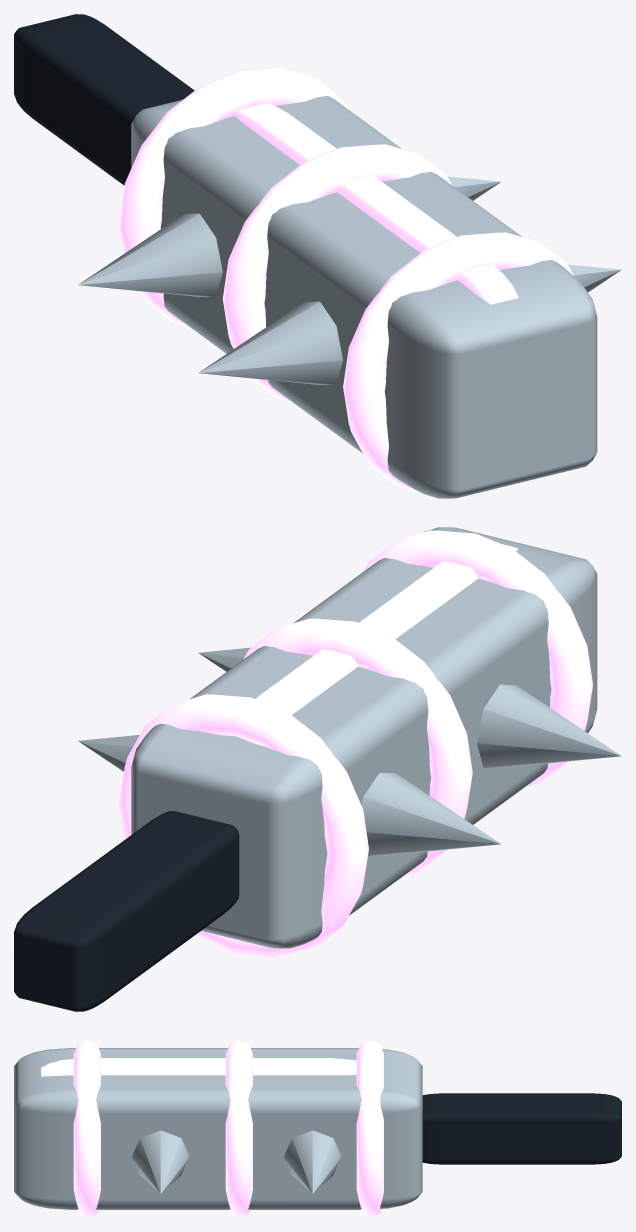
Rendered from bat-7.glb.
3 renders of one model, top to bottom at view 1: azimuth 30°, elevation 25°; view 2: azimuth 150°, elevation 25°; view 3: azimuth 270°, elevation 25°, orthographic. The views are drawn at different scales.
Bounding box in the file's own units: 0.652 × 0.3779 × 1.28.
